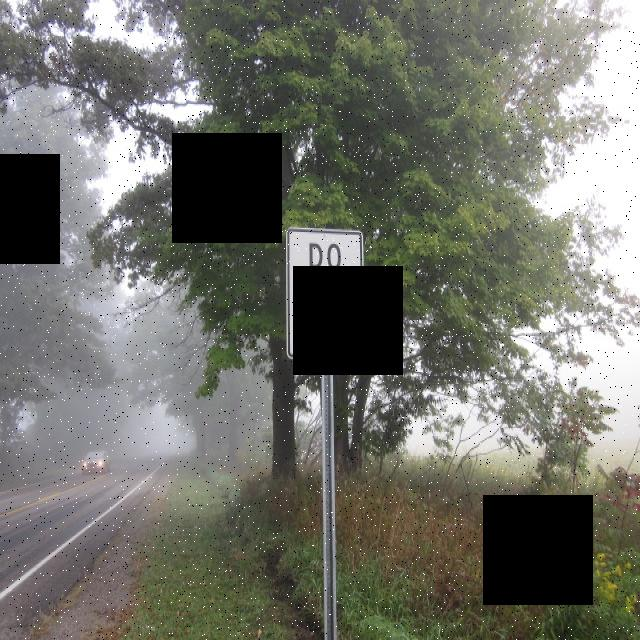regulatory: (282, 224, 368, 366)
